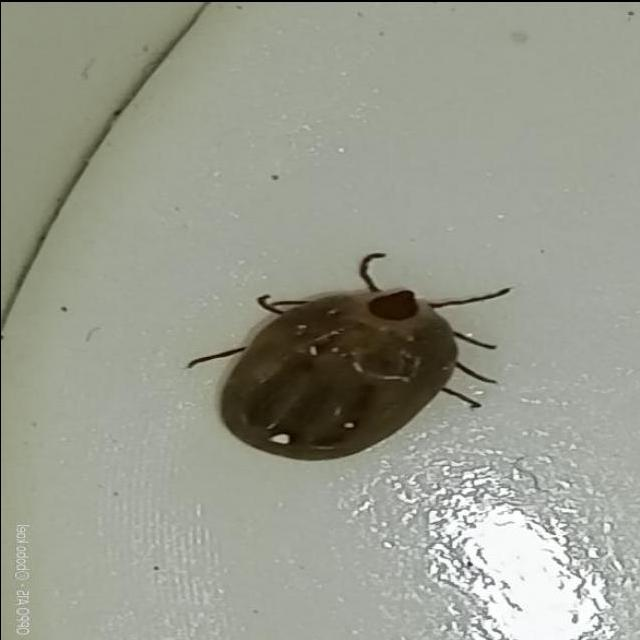Rhipicephalus Sanguineus-F-Fed: (185, 251, 511, 459)
